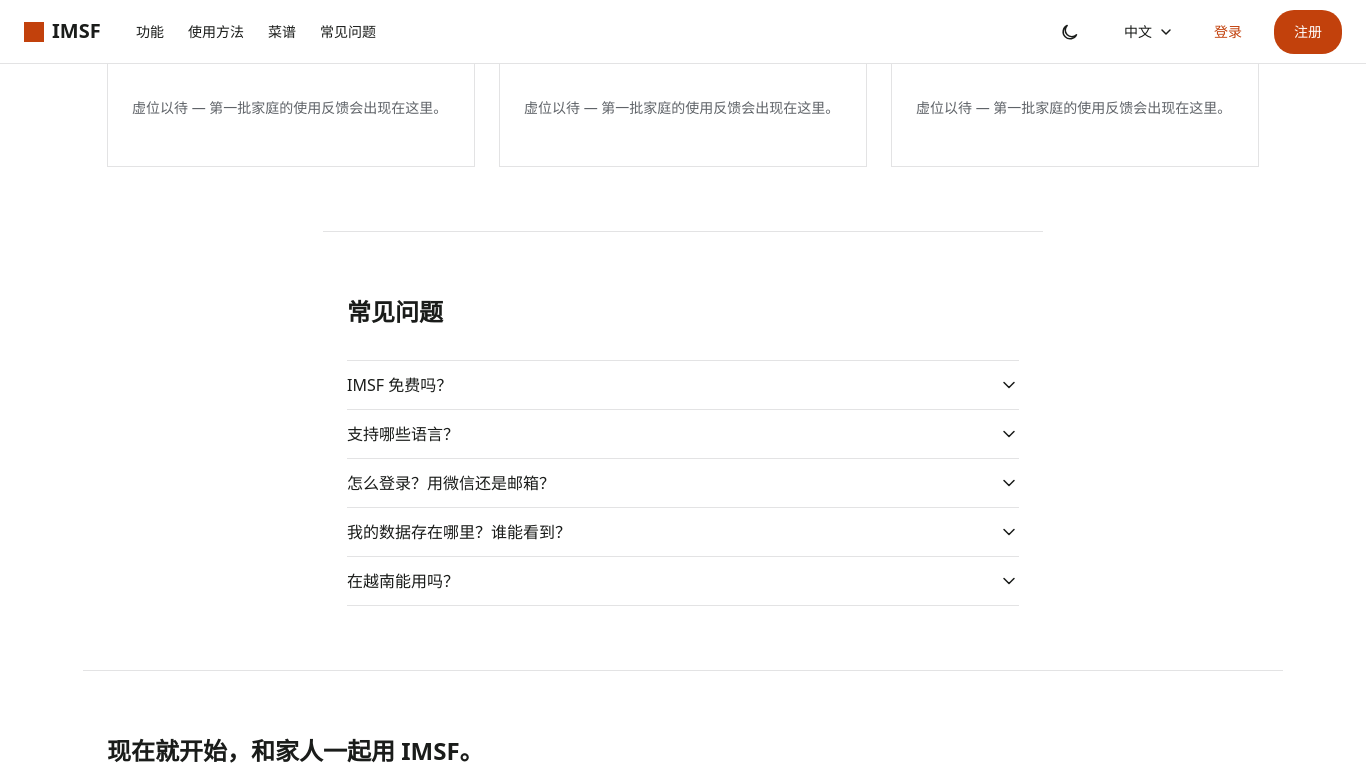
FAQ accordion › opens one question at a time, with aria-expanded + aria-controls
The image size is (1366, 768).
(page scrolled)
Check: the text "家庭使用免费" is not shown
Click the button "IMSF 免费吗？": [400, 385] box [347,361,1019,409]
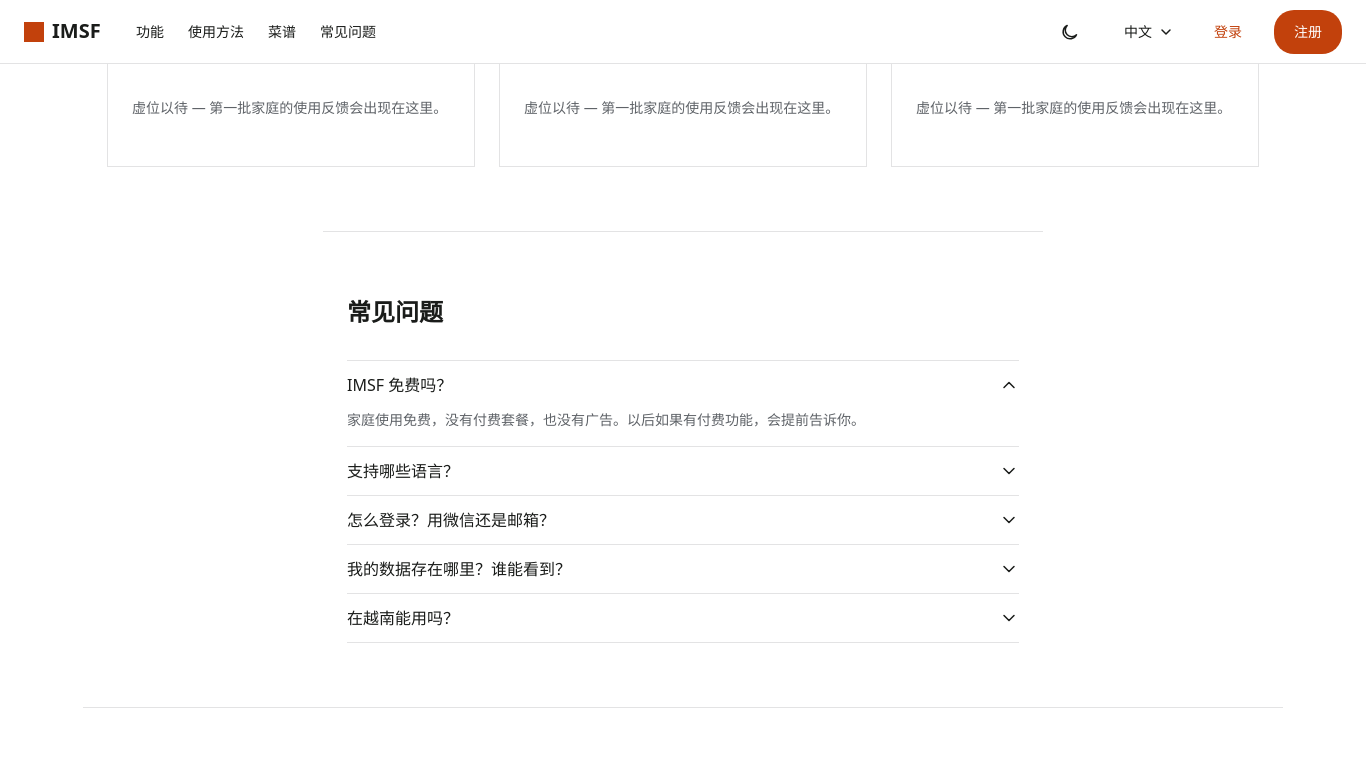
Check: the button "IMSF 免费吗？" is expanded, box [347,361,1019,409]
Check: the text "家庭使用免费，没有付费套餐，也没有广告。以后如果有付费功能，会提前告诉你。" is shown, box [347,410,865,429]
Click the button "支持哪些语言？": [403, 471] box [347,447,1019,495]
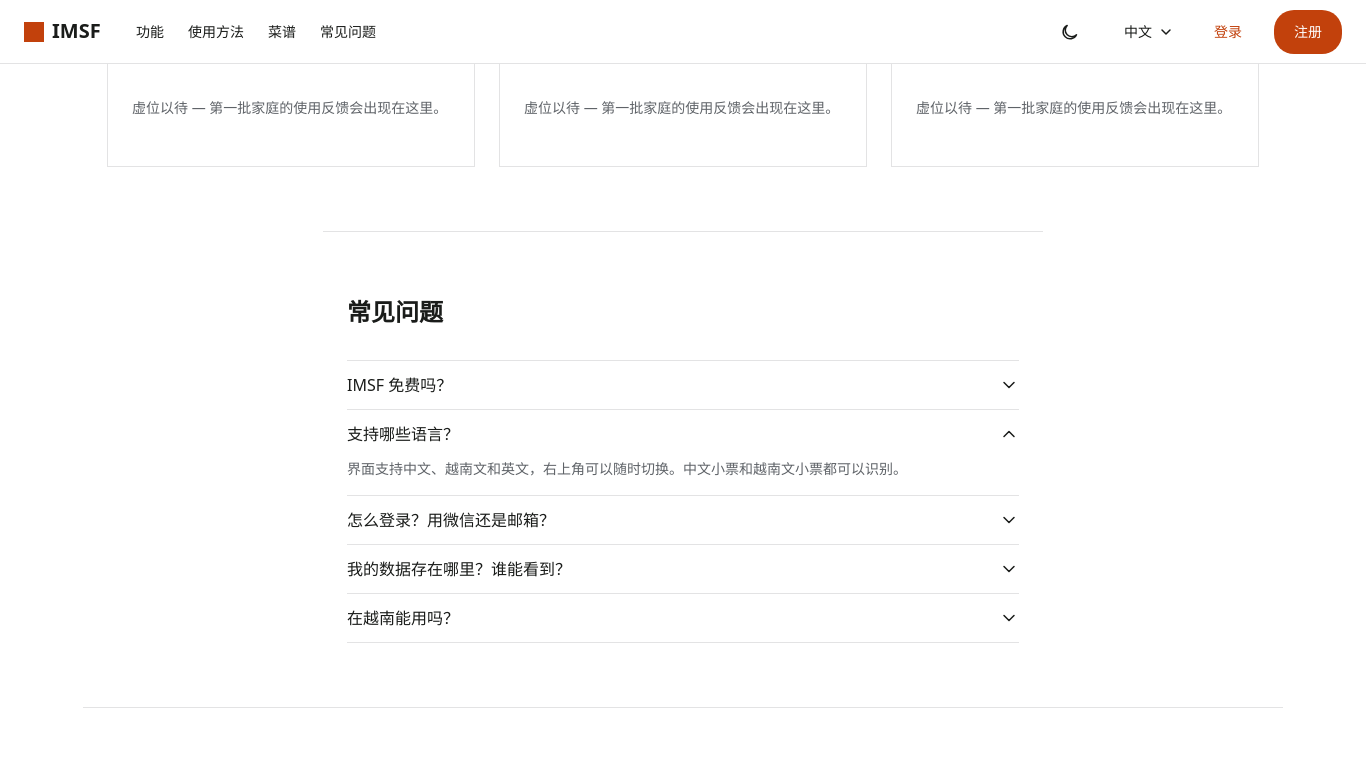
Check: the button "支持哪些语言？" is expanded
Check: the text "家庭使用免费" is gone
Check: the text "界面支持中文、越南文和英文，右上角可以随时切换。中文小票和越南文小票都可以识别。" is shown, box [347,459,907,478]
Click the button "支持哪些语言？": [403, 434] box [347,410,1019,458]
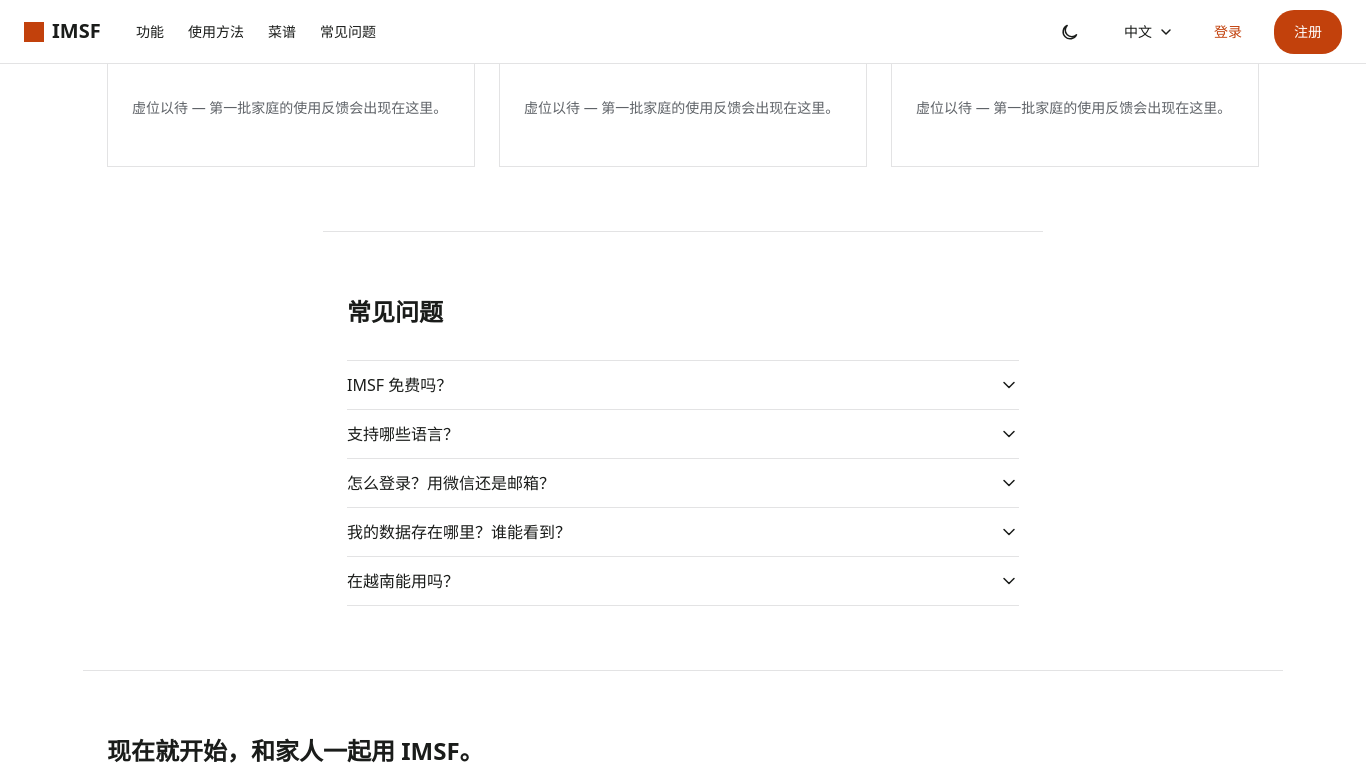
Check: the button "支持哪些语言？" is collapsed, box [347,410,1019,458]
Check: the text "界面支持中文、越南文和英文" is gone
